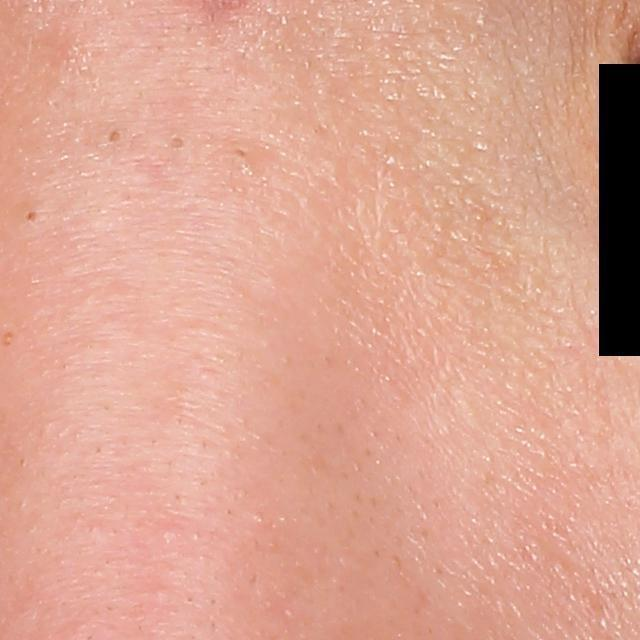comedo: (164, 133, 188, 152), (233, 143, 251, 161), (21, 206, 39, 223), (105, 131, 122, 146)
